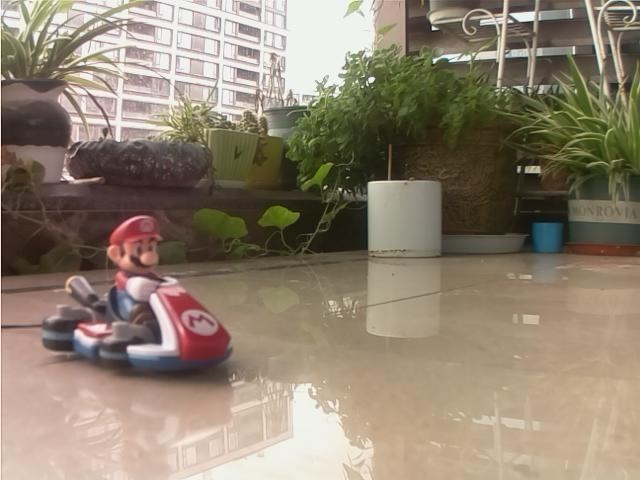mario: (34, 201, 244, 389)
